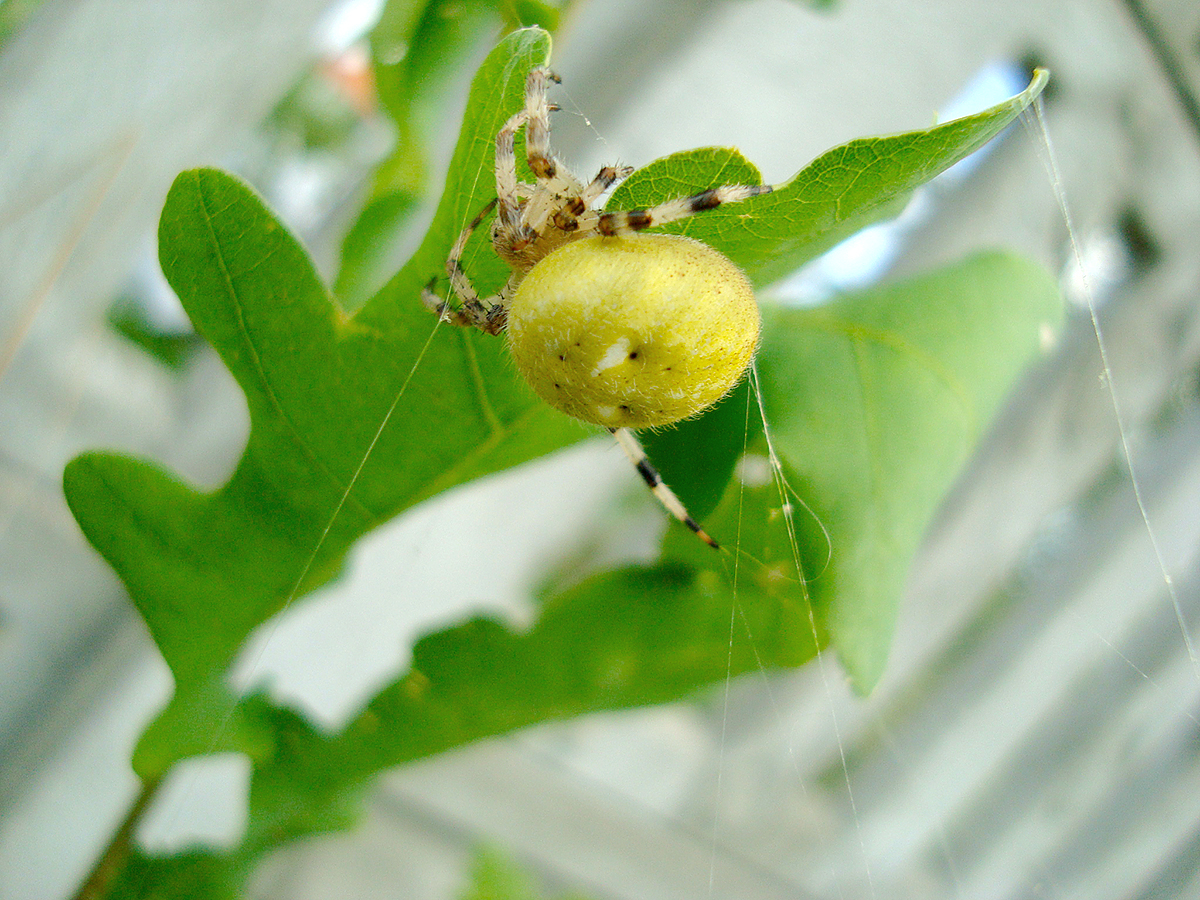spider: (393, 37, 783, 564)
